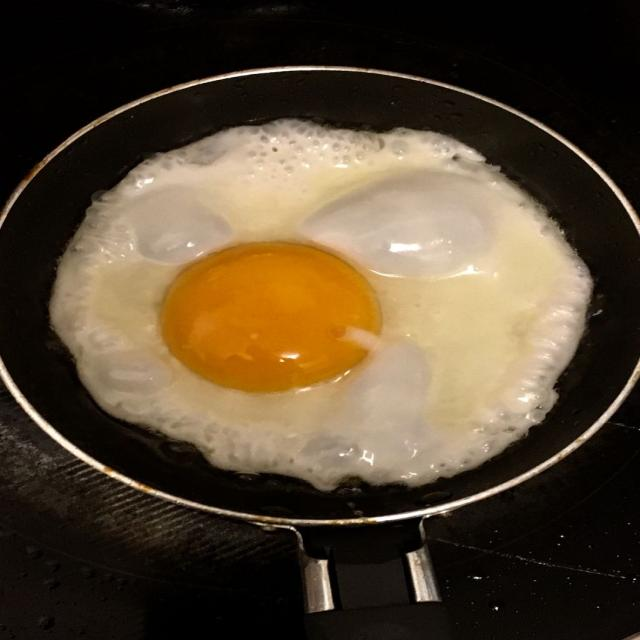fryed egg: (51, 120, 591, 489)
